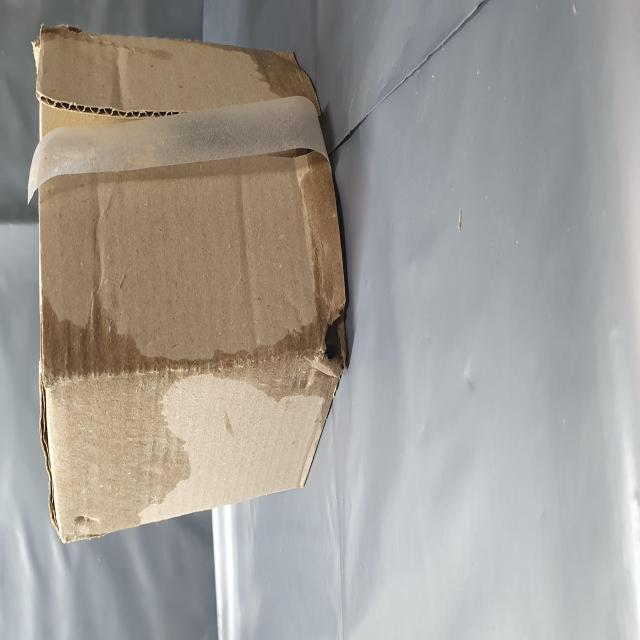wet: (55, 82, 186, 613), (165, 539, 271, 614)
